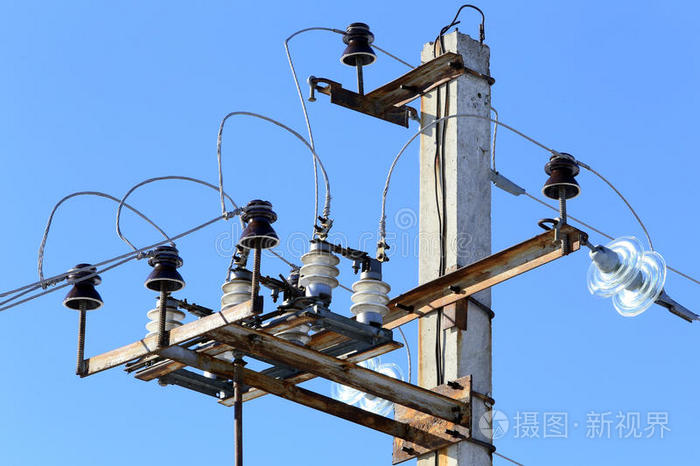insulator: (588, 235, 668, 319), (331, 356, 403, 416), (348, 279, 391, 317), (298, 252, 340, 287), (146, 309, 185, 339), (218, 280, 253, 310)
